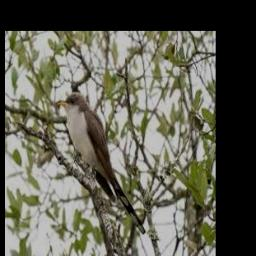Cuckoo: (59, 91, 147, 237)
